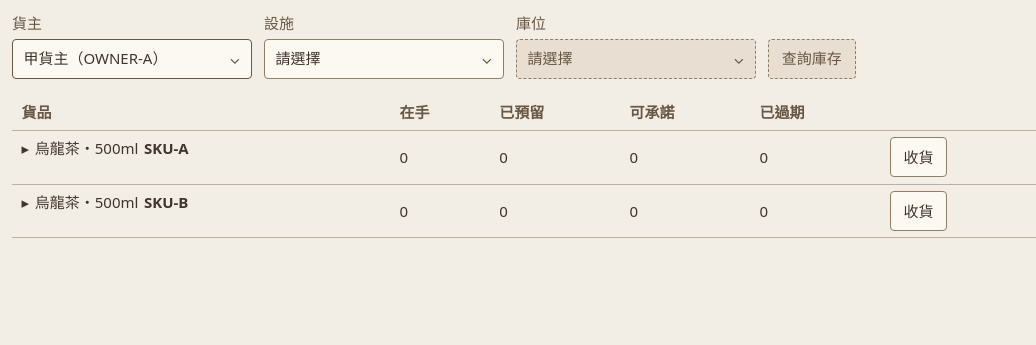
Test: StockPanel 的展開 › 展開一列不會連帶展開其他列
Click the button "▸ 烏龍茶・500ml SKU-A" at (105, 157), box [22,137,189,177]
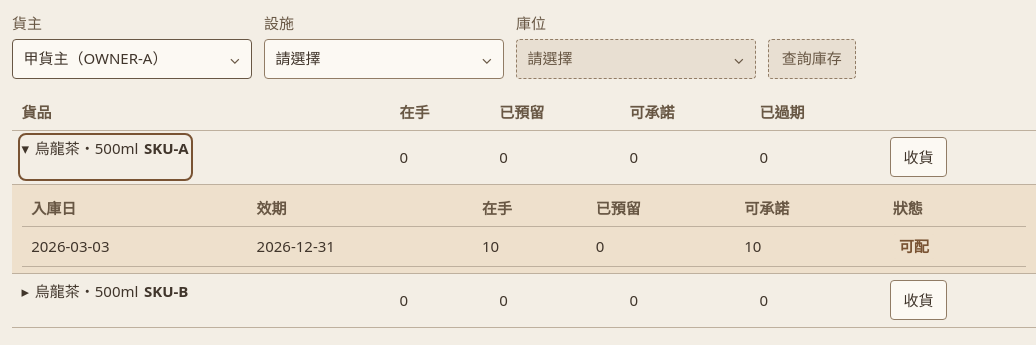
Expected: the text "2026-03-03" is shown, [22,227,247,266]
